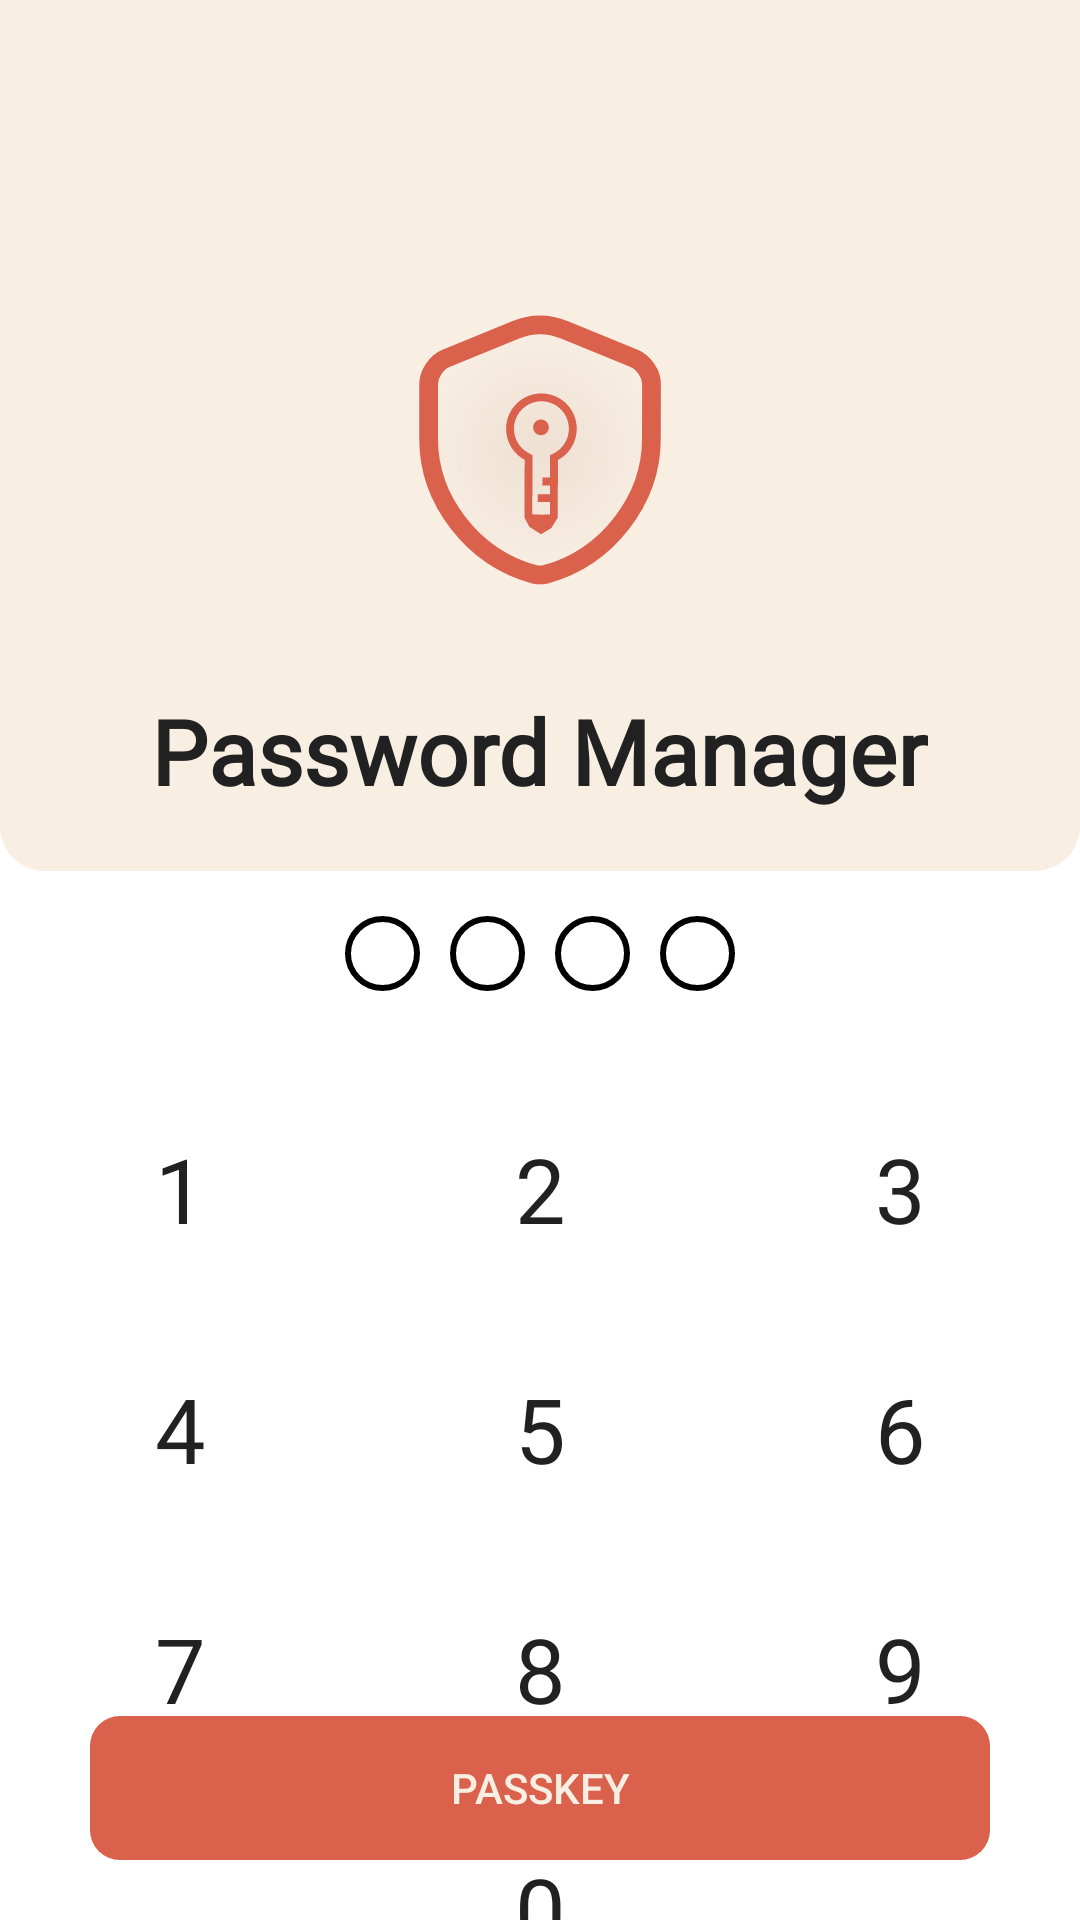

Named icons in this screenshot (1080w x 1920h) and their centers, [x,y]:
pin dot not: [382,953], [487,953], [592,953], [697,953]
